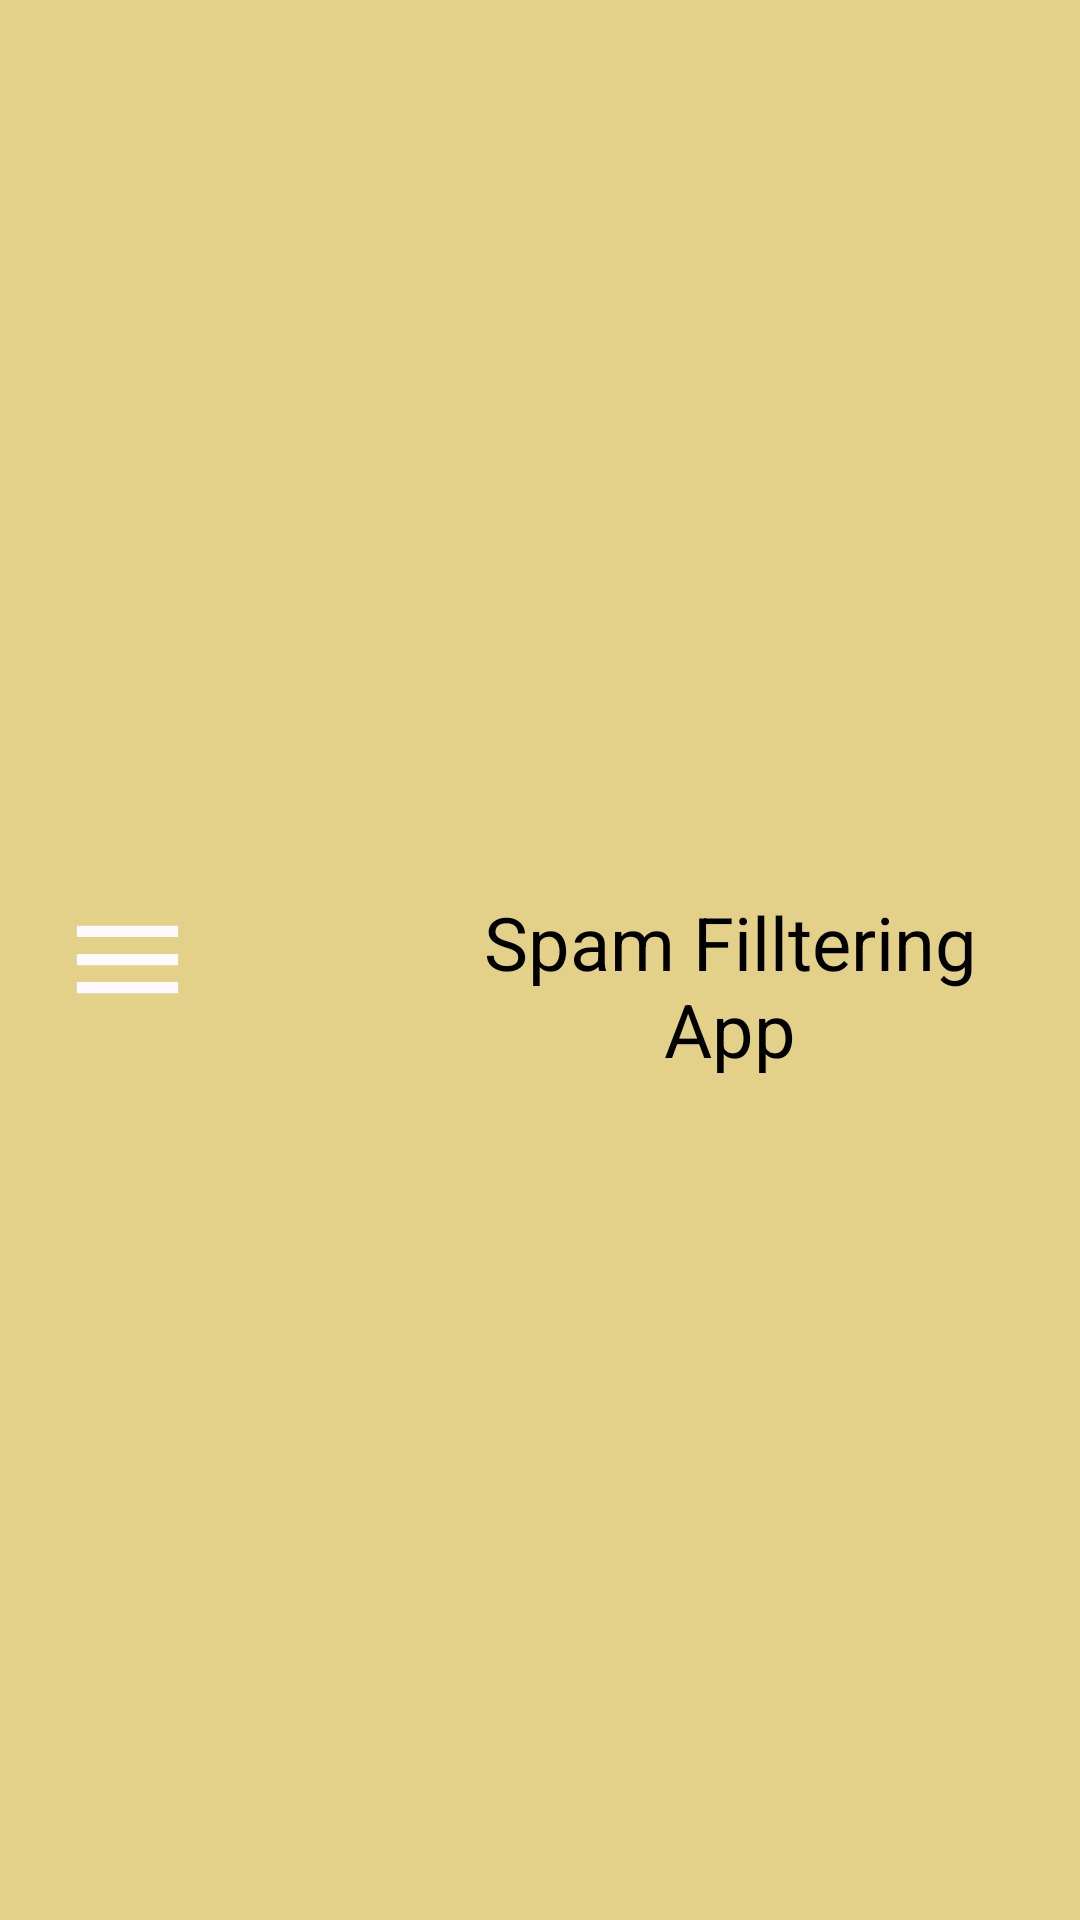

Icon bounding boxes for this 1080*1920 phone screenshot, format (x1, y1, x2, y2):
menu: (77, 925, 178, 994)
